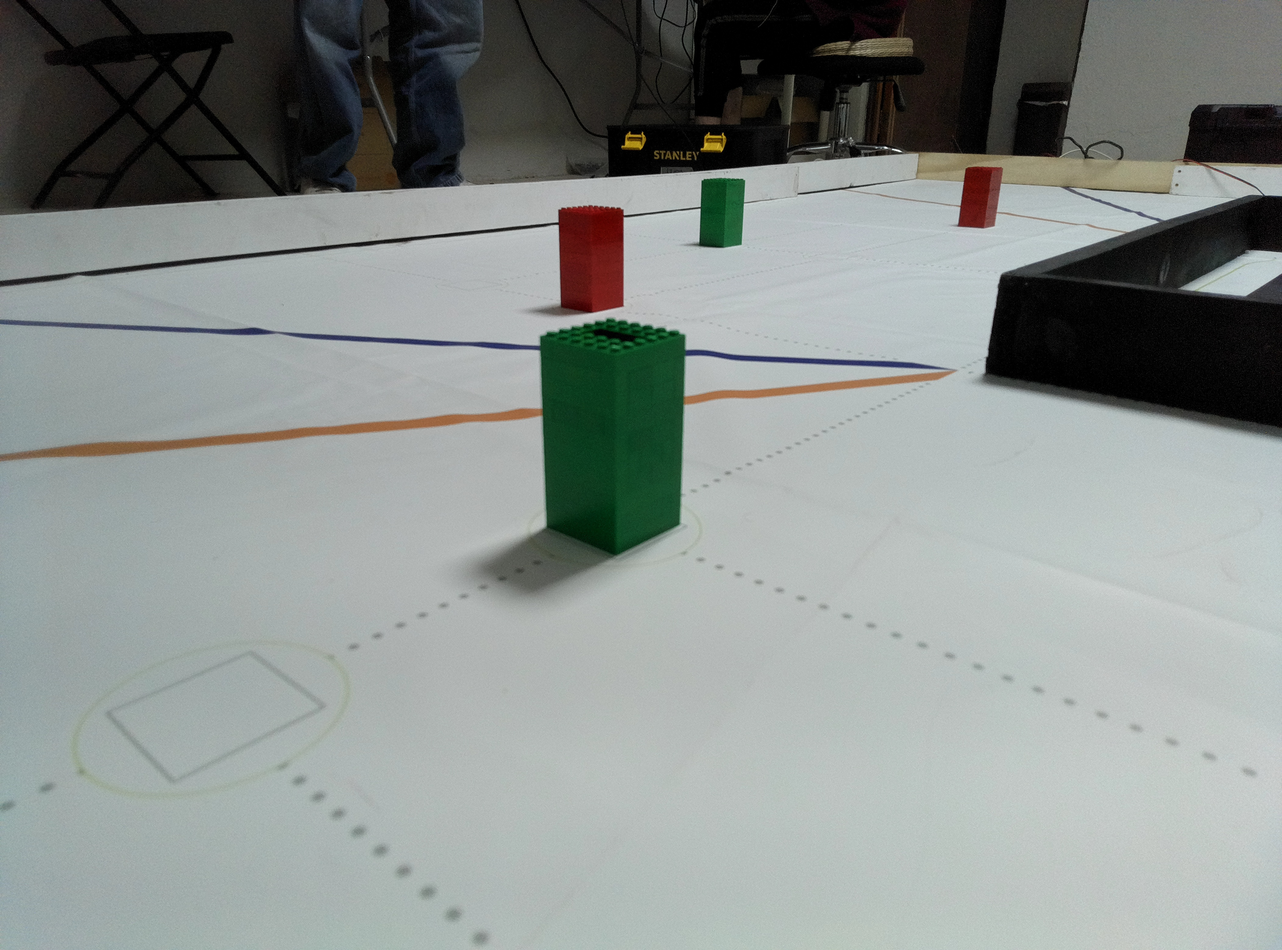greenbox: (538, 315, 689, 558), (698, 178, 745, 249)
redbox: (556, 202, 626, 313), (957, 165, 1004, 229)
